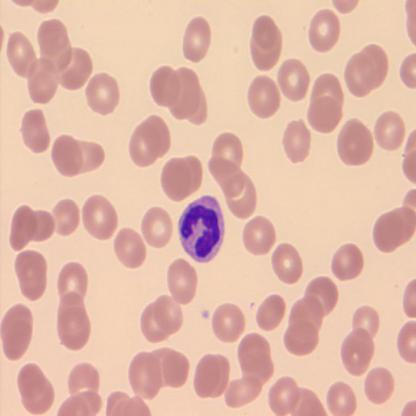Segmented neutrophil: (176, 192, 227, 265)
